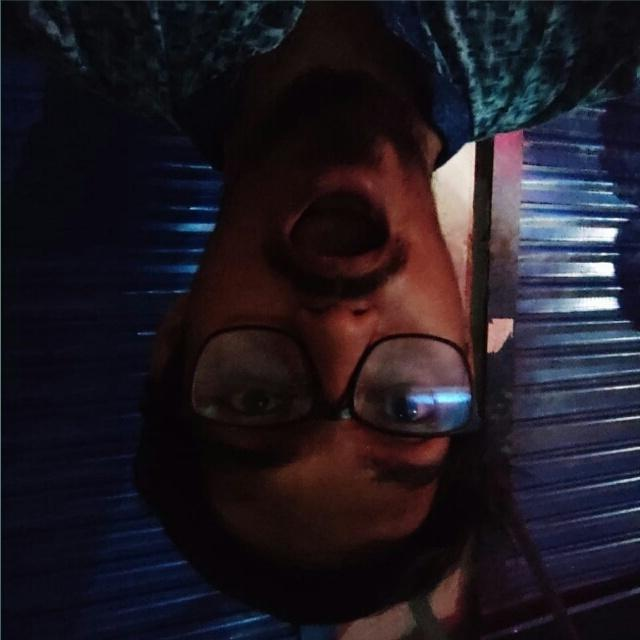surprised: (100, 96, 565, 608)
